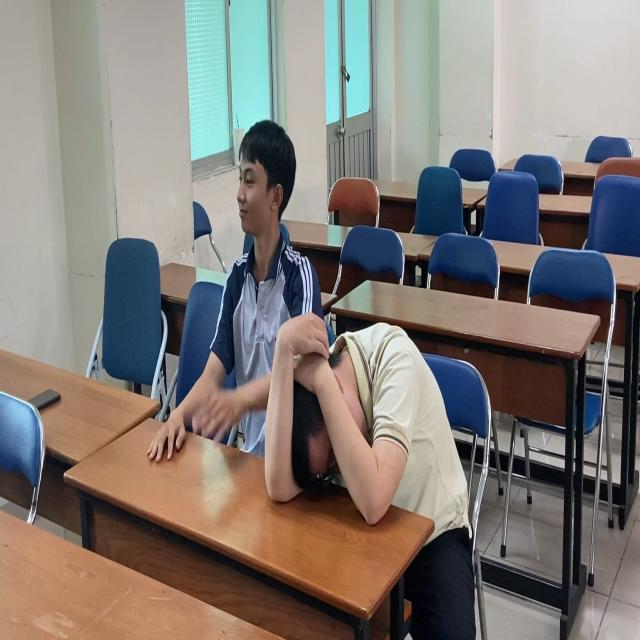sleep: (263, 299, 469, 534)
